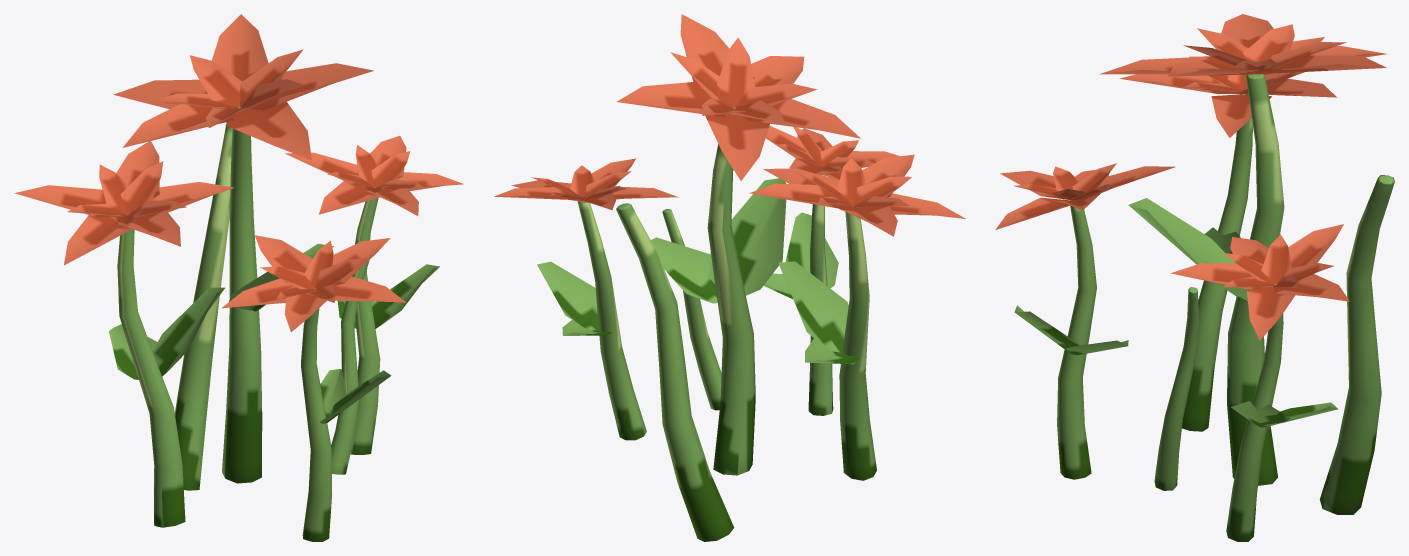
Rendered from Flower Orange.fbx.
The picture shows the model from 3 angles, left to right: view 1: azimuth 30°, elevation 25°; view 2: azimuth 150°, elevation 25°; view 3: azimuth 270°, elevation 25°; orthographic projection. The views are drawn at different scales.
Parts seen in each view (by area): view 1: Flower5; view 2: Flower5; view 3: Flower5.
Part boxes in pixels (box(x1,y1,x2,y2)): Flower5: box(14, 14, 463, 541); Flower5: box(494, 14, 965, 541); Flower5: box(995, 14, 1394, 541).
Size of the model in its own units: 31.18 by 30.9 by 22.74.
Materials: 1 (1 with a texture image).
